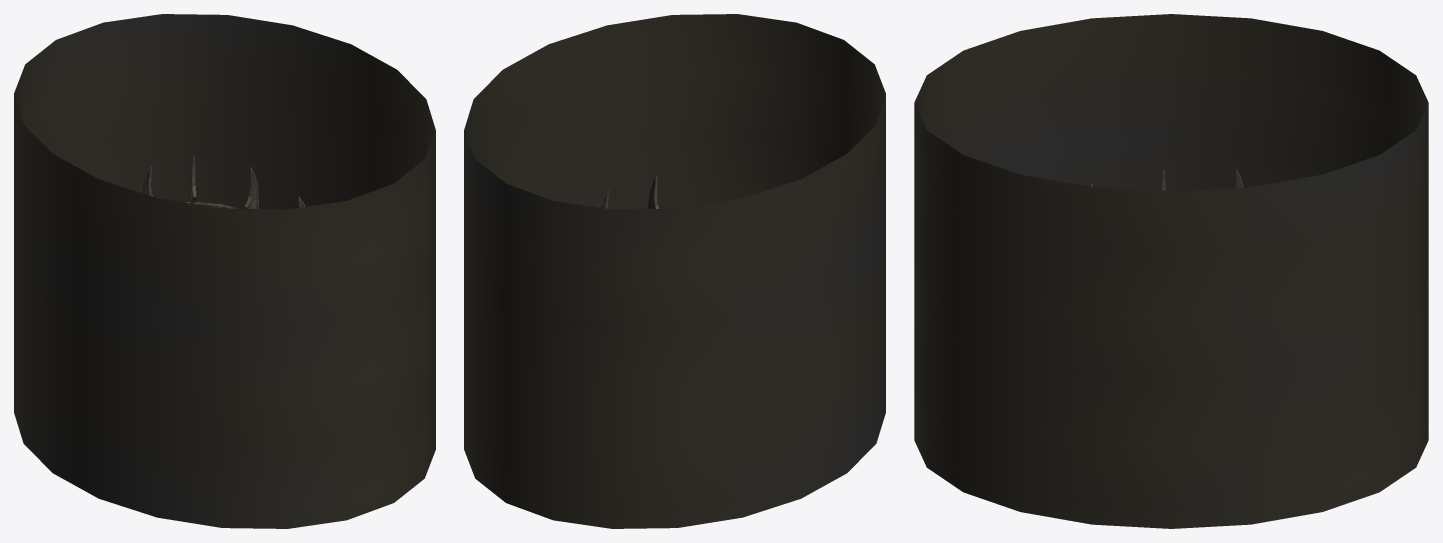
Rendered from Scene_bossroom.FBX.
3 renders of one model, left to right at view 1: azimuth 30°, elevation 25°; view 2: azimuth 150°, elevation 25°; view 3: azimuth 270°, elevation 25°, orthographic. The views are drawn at different scales.
Parts seen in each view (by area): view 1: Scene_bossroom_a1; view 2: Scene_bossroom_a1; view 3: Scene_bossroom_a1.
Part boxes in pixels (x1=…): Scene_bossroom_a1: x1=14, y1=14, x2=435, y2=528; Scene_bossroom_a1: x1=464, y1=14, x2=885, y2=528; Scene_bossroom_a1: x1=914, y1=14, x2=1428, y2=528.
Size of the model in its own units: 16300 by 14445 by 19960.
